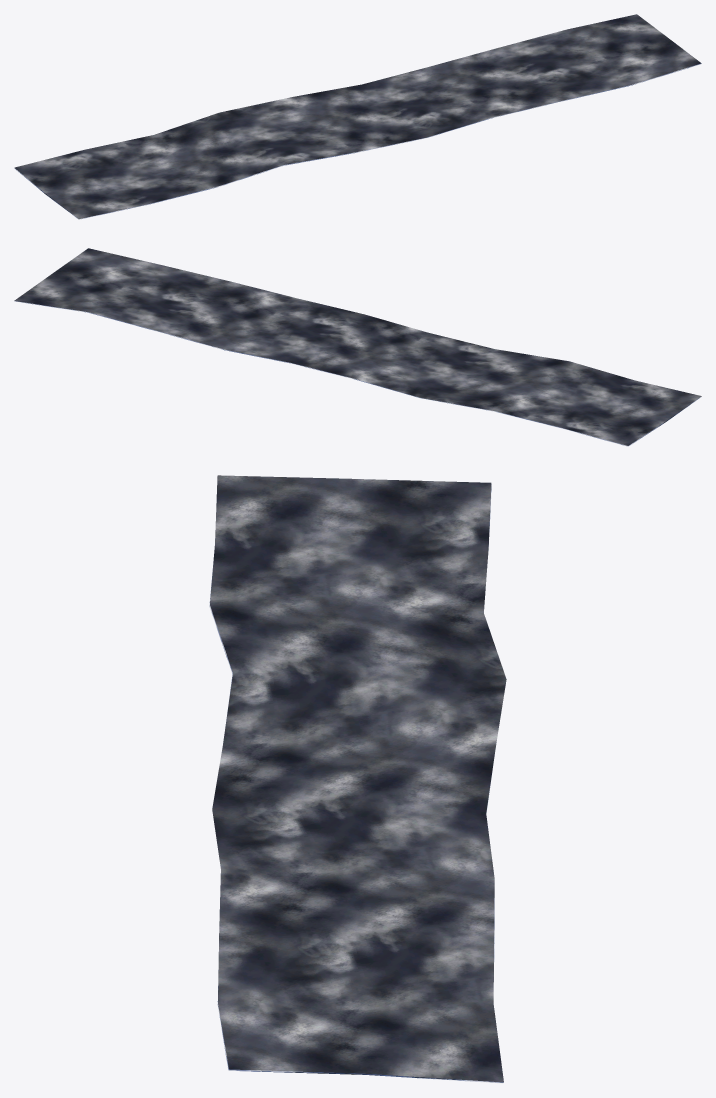
Rendered from LONE_MOUNTAIN_WATERFALLS_MAIN_WATER_COOLER04.fbx.
The picture shows the model from 3 angles, top to bottom: view 1: azimuth 30°, elevation 25°; view 2: azimuth 150°, elevation 25°; view 3: azimuth 270°, elevation 25°; orthographic projection. The views are drawn at different scales.
Visible parts, largest first — view 1: LONE_MOUNTAIN_WATERFALLS_MAIN_WATER_COOLER04; view 2: LONE_MOUNTAIN_WATERFALLS_MAIN_WATER_COOLER04; view 3: LONE_MOUNTAIN_WATERFALLS_MAIN_WATER_COOLER04.
Part boxes in pixels (box(x1,y1,x2,y2)): LONE_MOUNTAIN_WATERFALLS_MAIN_WATER_COOLER04: box(14, 14, 701, 219); LONE_MOUNTAIN_WATERFALLS_MAIN_WATER_COOLER04: box(14, 248, 701, 446); LONE_MOUNTAIN_WATERFALLS_MAIN_WATER_COOLER04: box(209, 475, 506, 1083).
Size of the model in its own units: 143421 by 1100 by 29944.
2 materials, 2 textured.
